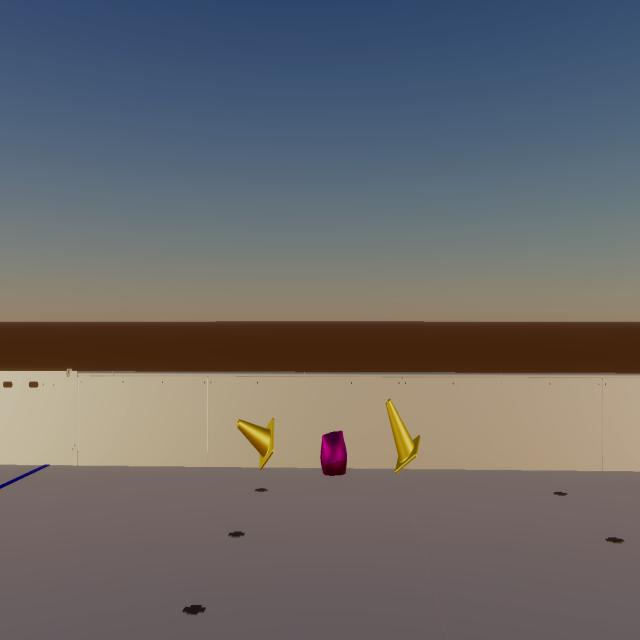frc_cone: (386, 399, 420, 474), (237, 418, 274, 470)
frc_cube: (320, 431, 347, 476)
